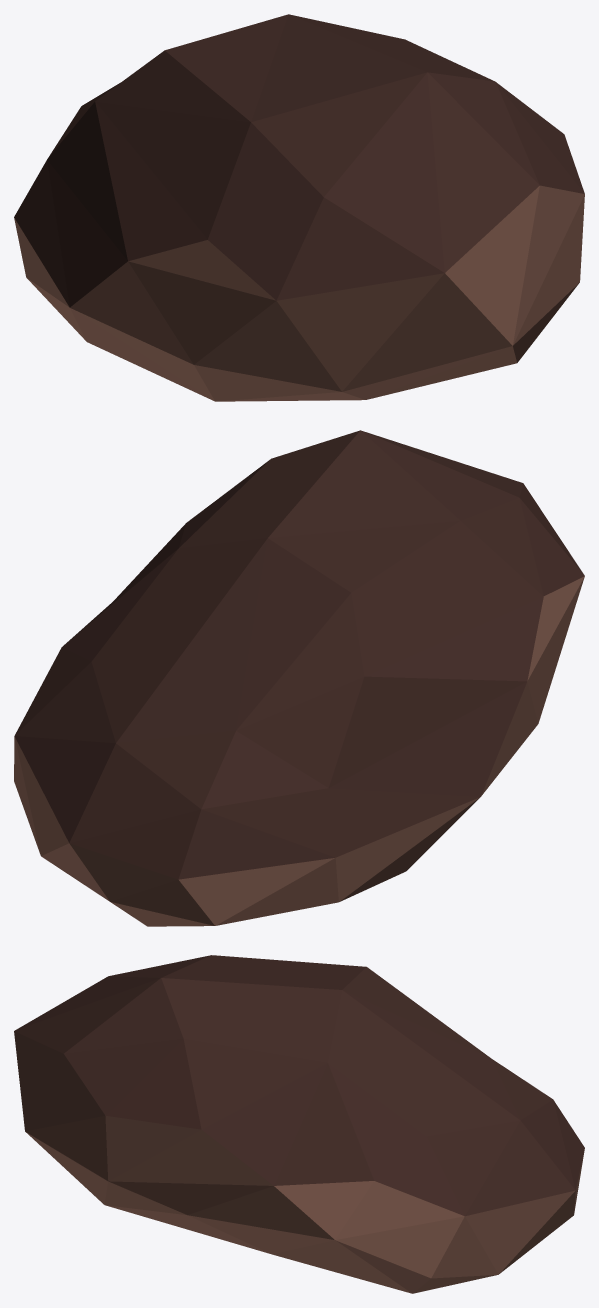
Rendered from Brown_stone_011.fbx.
The picture shows the model from 3 angles, top to bottom: view 1: azimuth 30°, elevation 25°; view 2: azimuth 150°, elevation 25°; view 3: azimuth 270°, elevation 25°; orthographic projection. The views are drawn at different scales.
Parts seen in each view (by area): view 1: Brown_stone_011; view 2: Brown_stone_011; view 3: Brown_stone_011.
Part boxes in pixels (x1,y1,x2,y2): Brown_stone_011: (14,14,584,401); Brown_stone_011: (14,430,584,926); Brown_stone_011: (14,955,584,1293).
Size of the model in its own units: 615 by 879 by 480.
